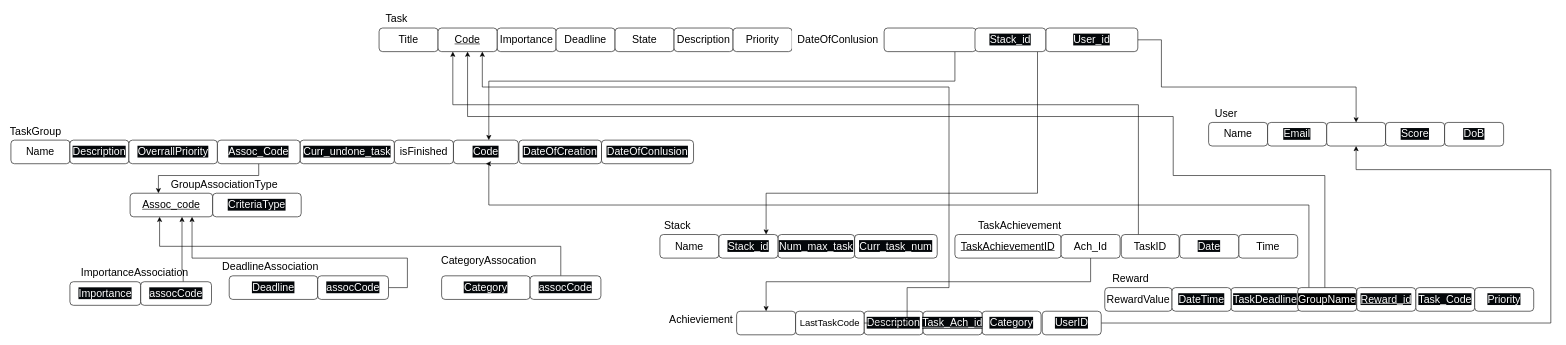
Image size: 1566x345. Some labels were removed from this diagram. The shapes that lost their labels are listed below. From the top down, each one's centre as x and y in pixels, then its label:
the point at 930,39: Group_code
the point at 1356,134: ID
the point at 766,323: Ach_code
